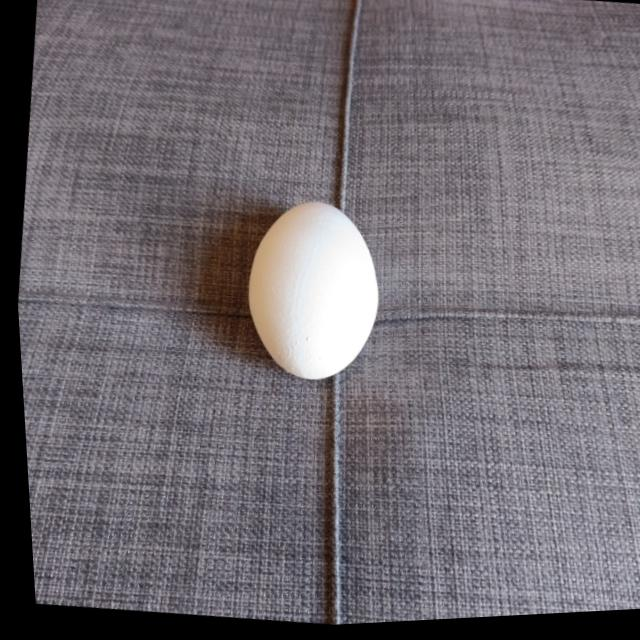egg: (229, 192, 390, 393)
